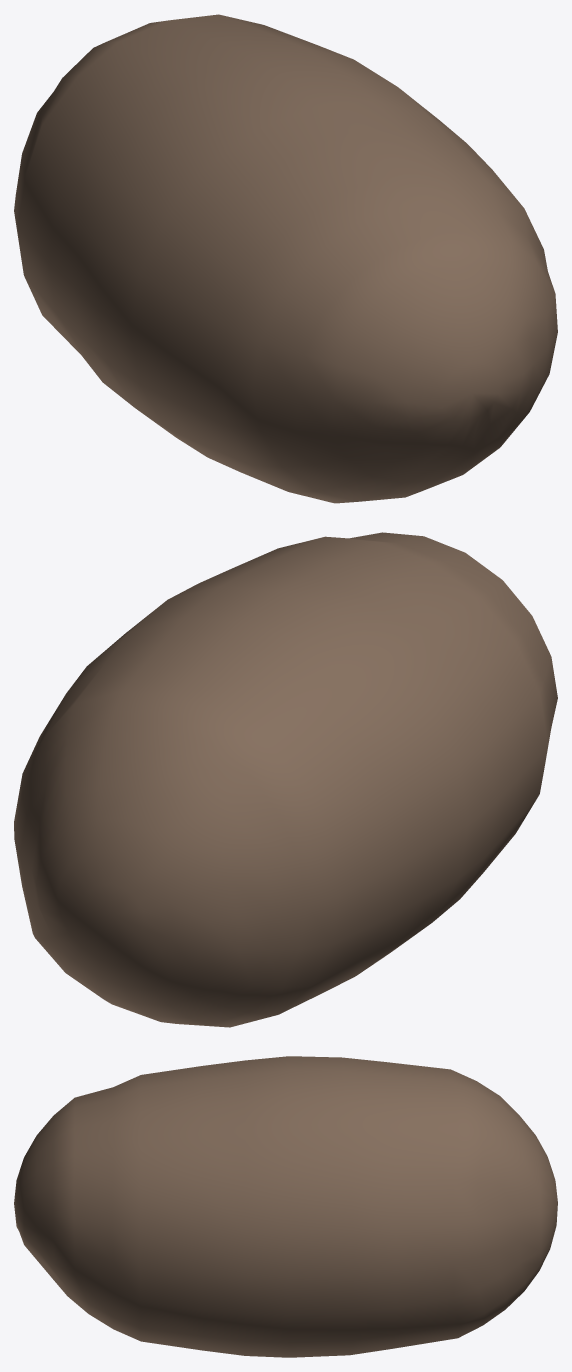
The model's file is Potato.fbx.
The picture shows the model from 3 angles, top to bottom: view 1: azimuth 30°, elevation 25°; view 2: azimuth 150°, elevation 25°; view 3: azimuth 270°, elevation 25°; orthographic projection. The views are drawn at different scales.
Parts seen in each view (by area): view 1: Potato; view 2: Potato; view 3: Potato.
Boxes of the visible parts, box(x1,y1,x2,y2) form: Potato: box(14, 14, 557, 503); Potato: box(14, 532, 557, 1027); Potato: box(14, 1056, 557, 1357).
Size of the model in its own units: 2.39 by 2.22 by 4.01.
